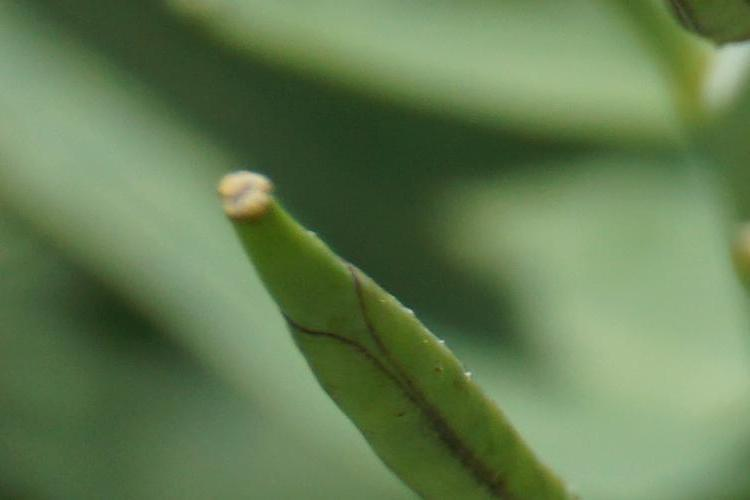pod: (217, 146, 590, 490)
